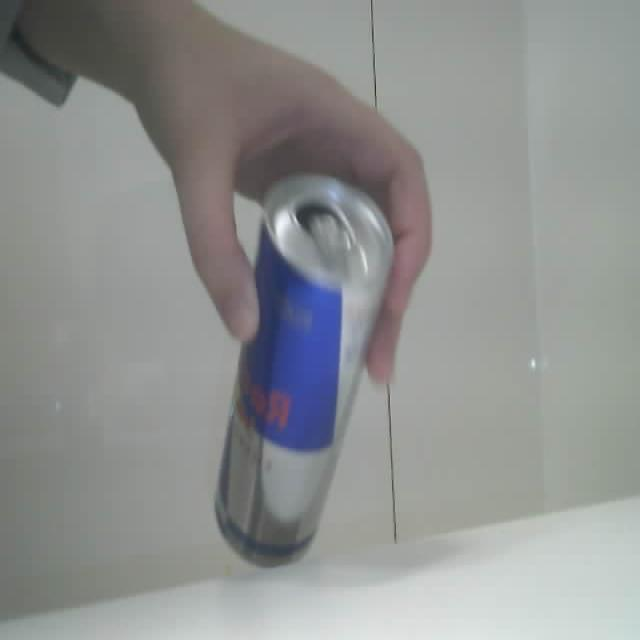redbull can: (215, 176, 392, 566)
